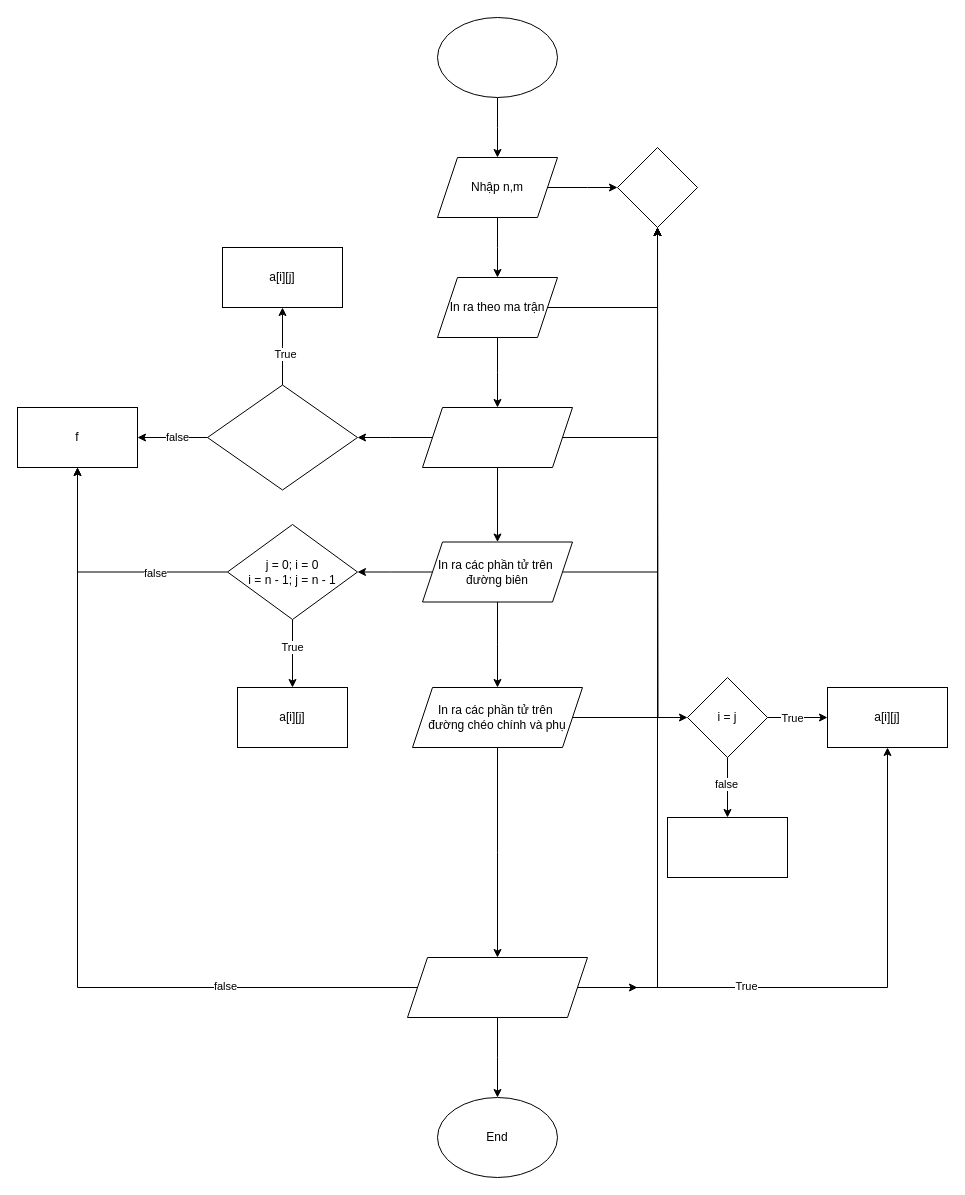
This 965x1195 diagram has some shape labels left out. Here are the shapes that lost their labels. From the top down, the centre of each, then its label:
At pixel 497 57: "start".
At pixel 657 187: "i = 0; i < n j = 0; j < m".
At pixel 282 437: "i = 0; j = 0 i = n - 1; j = 0 i = n - 1; j = m - 1 i = 0; j = m - 1".
At pixel 497 437: "In ra các phần tử ở góc".
At pixel 727 847: "mảnh không có đường chéo".
At pixel 497 987: "In ra các phần tử là số nguyên tố".
